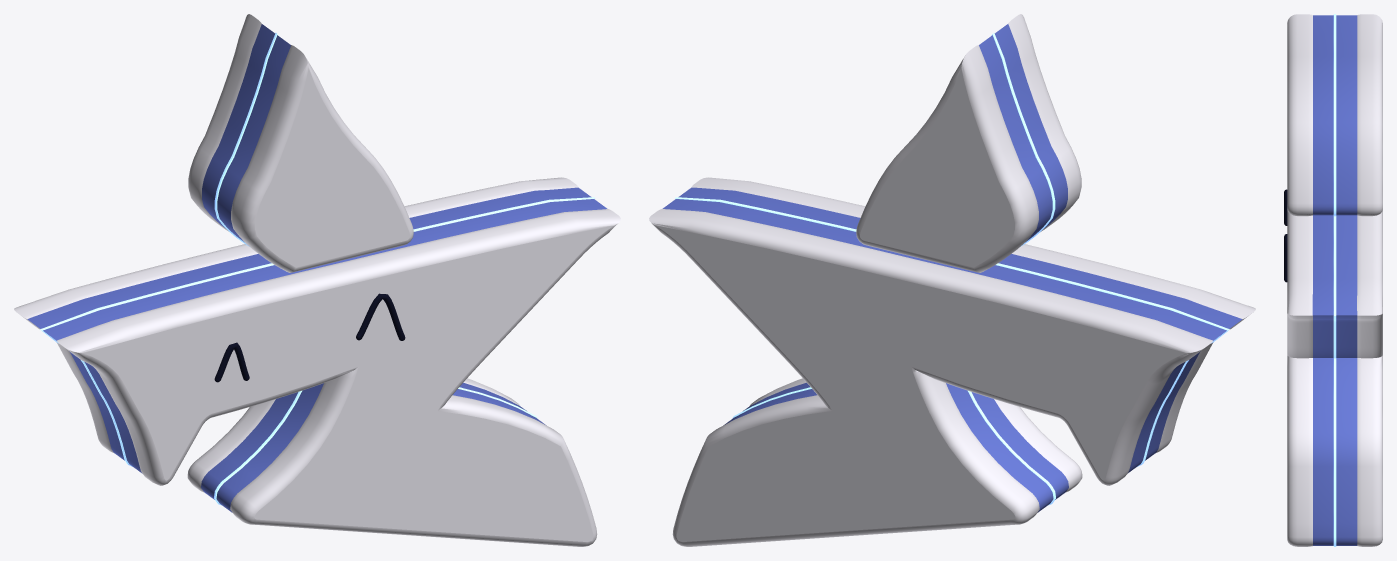
The model's file is rebacchi-porcelain.glb.
The picture shows the model from 3 angles, left to right: view 1: azimuth 30°, elevation 25°; view 2: azimuth 150°, elevation 25°; view 3: azimuth 270°, elevation 25°; orthographic projection. The views are drawn at different scales.
Visible parts, largest first — view 1: Body_Front, Crest_Front, Body_Core, Body_Back, Crest_Core, Crest_Back, Body_Light, Smiling_eyes, Crest_Light; view 2: Body_Back, Crest_Back, Body_Core, Body_Front, Crest_Core, Crest_Front, Body_Light, Crest_Light; view 3: Body_Core, Crest_Core, Body_Front, Body_Back, Crest_Back, Crest_Front, Body_Light, Crest_Light, Smiling_eyes.
Boxes of the visible parts, <box> form: Body_Front: <box>56,209,620,546</box>; Crest_Front: <box>231,45,413,272</box>; Body_Core: <box>27,187,607,512</box>; Body_Back: <box>14,177,578,492</box>; Crest_Core: <box>202,24,290,242</box>; Crest_Back: <box>188,14,261,231</box>; Body_Light: <box>40,197,594,505</box>; Smiling_eyes: <box>214,293,405,382</box>; Crest_Light: <box>214,32,278,246</box>; Body_Back: <box>649,209,1213,546</box>; Crest_Back: <box>856,45,1038,272</box>; Body_Core: <box>662,187,1242,512</box>; Body_Front: <box>691,177,1255,492</box>; Crest_Core: <box>979,24,1067,242</box>; Crest_Front: <box>1008,14,1081,231</box>; Body_Light: <box>675,197,1229,505</box>; Crest_Light: <box>991,32,1055,246</box>; Body_Core: <box>1312,215,1357,545</box>; Crest_Core: <box>1313,15,1357,215</box>; Body_Front: <box>1287,210,1312,546</box>; Body_Back: <box>1357,209,1382,546</box>; Crest_Back: <box>1357,14,1382,216</box>; Crest_Front: <box>1287,14,1312,216</box>; Body_Light: <box>1333,216,1336,546</box>; Crest_Light: <box>1333,14,1336,216</box>; Smiling_eyes: <box>1284,189,1287,282</box>.
Bounding box in the file's own units: 3.1 × 3.01 × 0.63.
